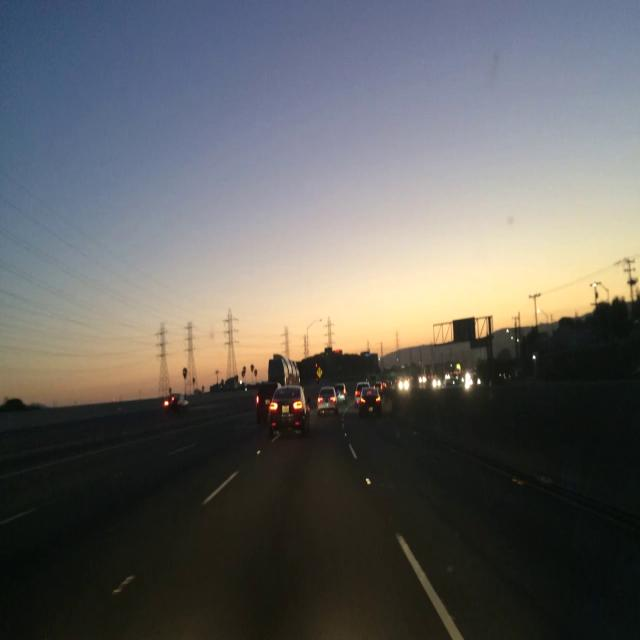Vehicle: (270, 380, 308, 438), (316, 389, 339, 416), (359, 385, 384, 409)
